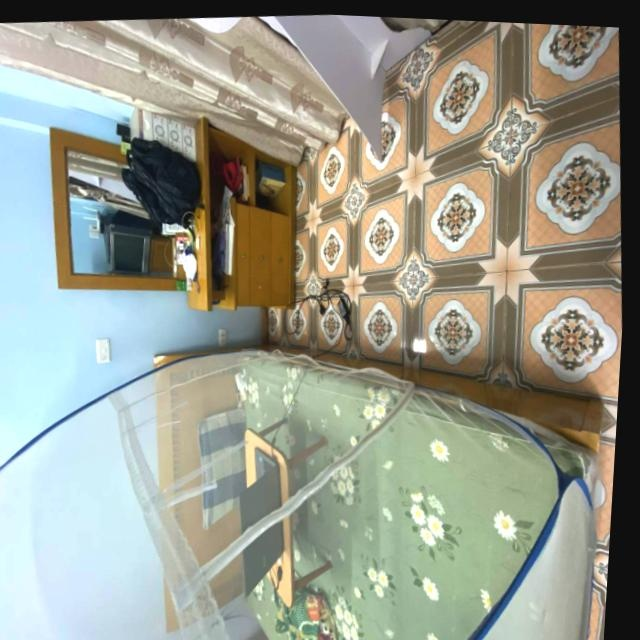outlet: (217, 327, 227, 346)
